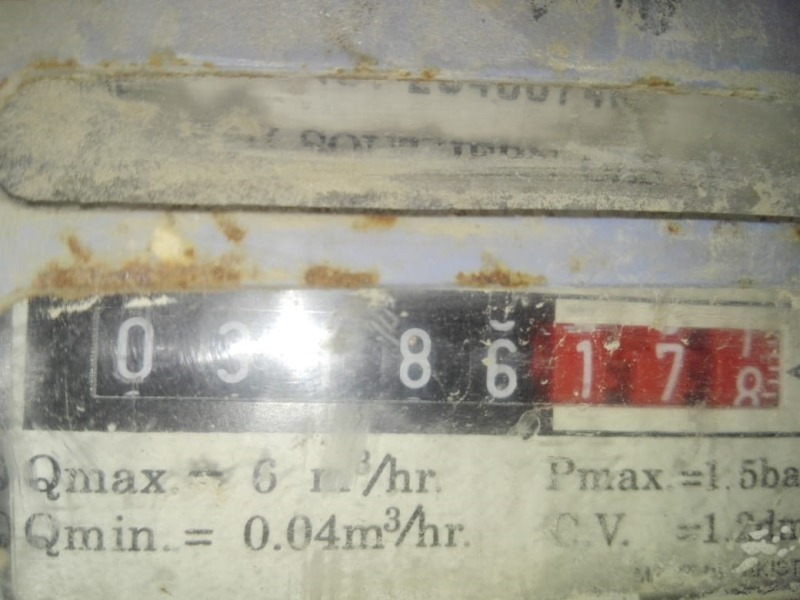ssgc: (84, 291, 788, 418)
